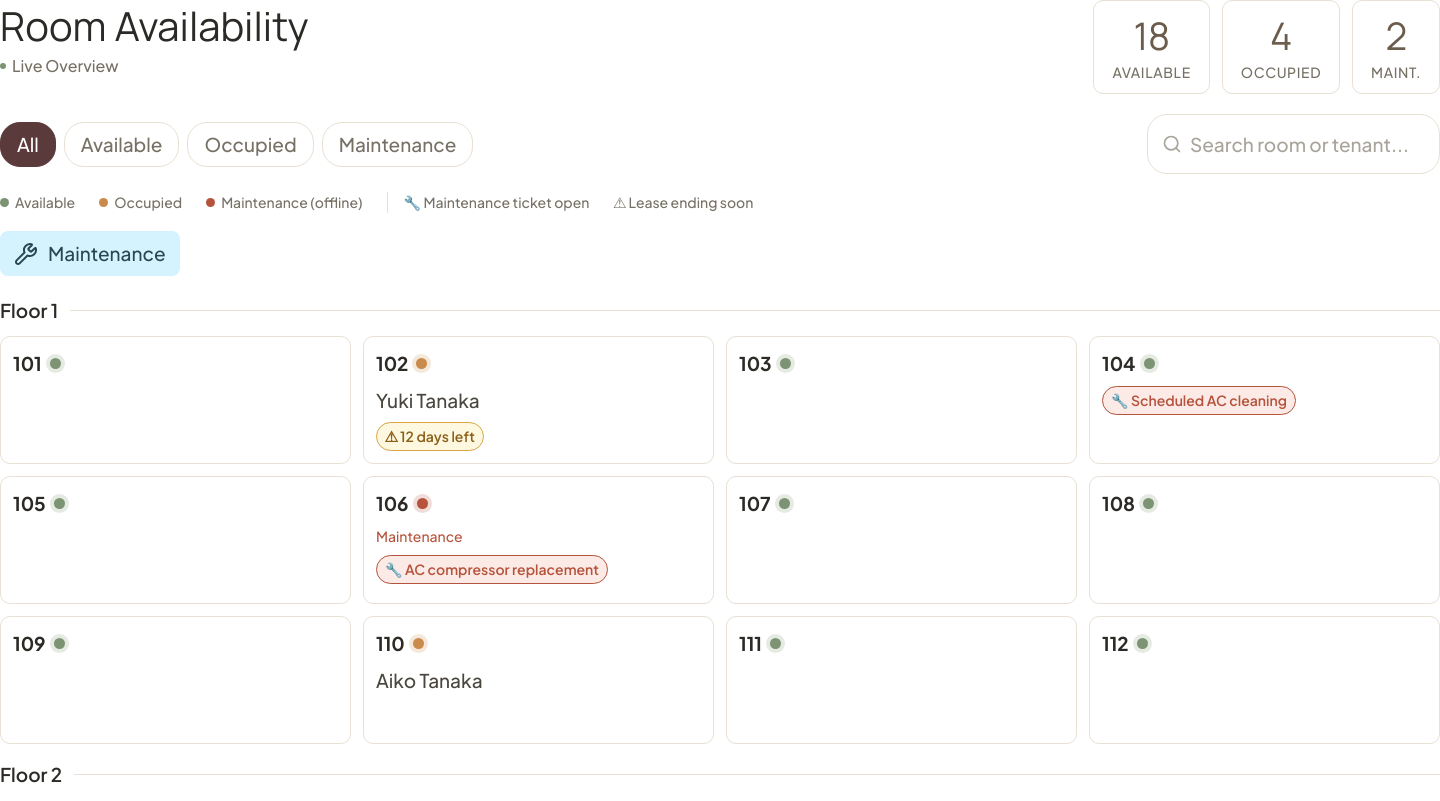
Test: US-09 open a room for the next action › S1 shows the selected tenant real contact details read-only on check-in
The width and height of the screenshot is (1440, 801).
Click the button named "Unit 101" at (27, 363), box [0,336,351,464]
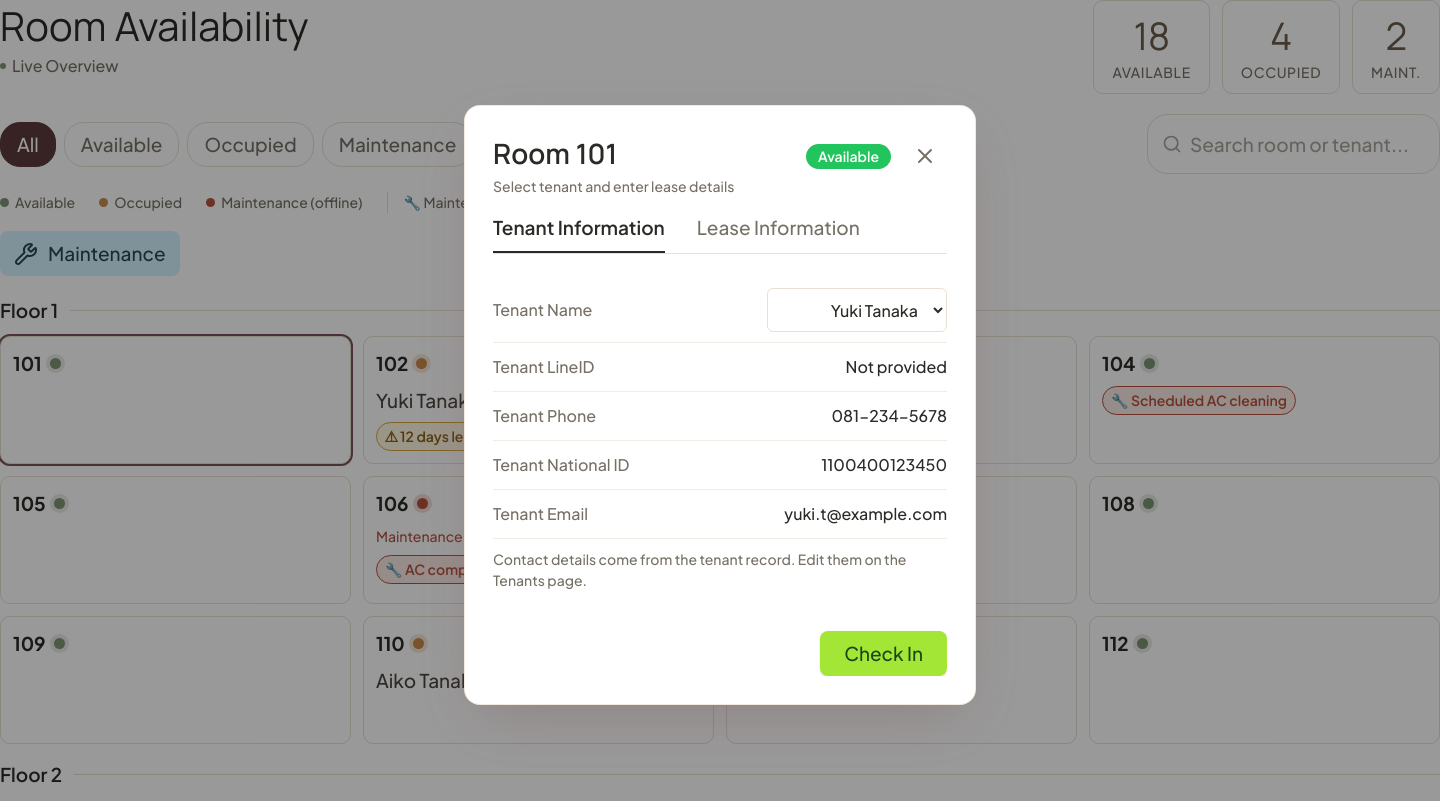
Select "Hiroshi Nakamura" in the dropdown labelled "Tenant Name" at (857, 310), box [767,288,947,332]
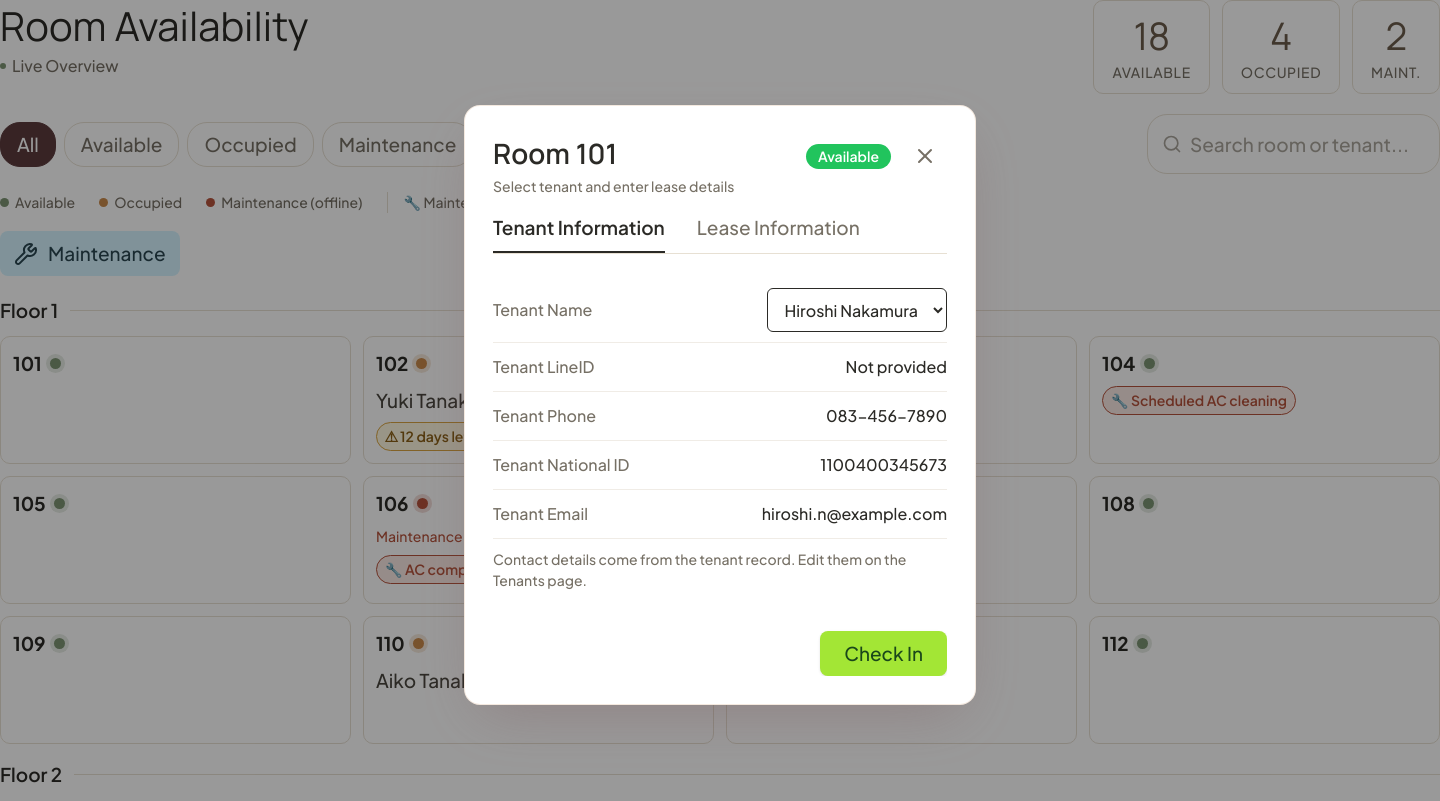
Expected: the text "083-456-7890" is shown, [826,404,947,428]
Expected: the text "1100400345673" is shown, [820,453,947,477]
Expected: the text "hiroshi.n@example.com" is shown, [762,502,947,526]
